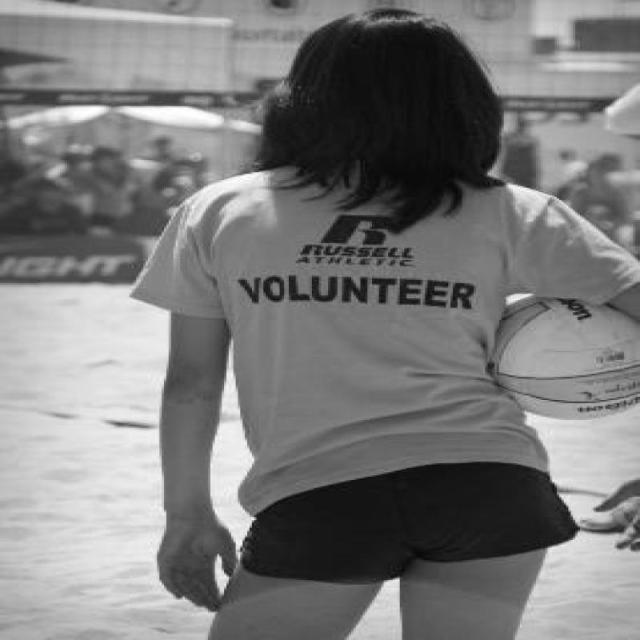volleyball: (487, 290, 638, 420)
